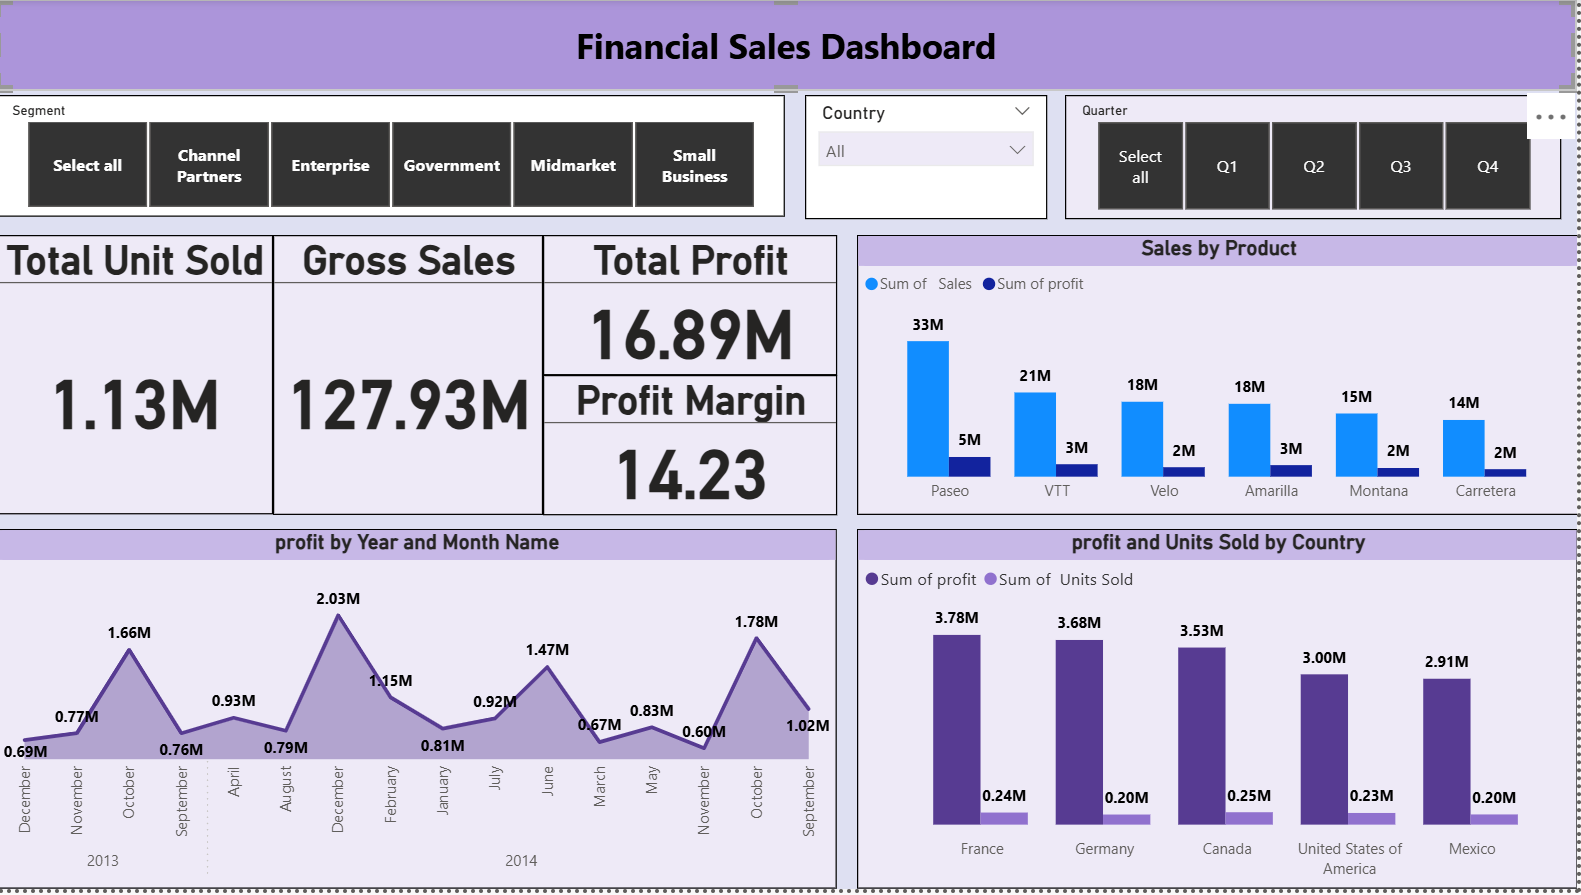

What the dashboard file says about the page in this screenshot:
{"tool":"powerbi","page":{"name":"Page 1","canvas":[1280,720],"ordinal":0},"visuals":[{"type":"card","title":"Total Unit Sold","fields":{"Values":["financial_data.Total_UNIT_Sold"]},"box":[0,190.9,224.9,226],"z":0},{"type":"shape","box":[0,0,1279.8,74.4],"z":1},{"type":"card","title":"Gross Sales","fields":{"Values":["financial_data.Total_Gross_Sales"]},"box":[224.9,190.9,218.4,226.5],"z":2},{"type":"card","title":"Total Profit","fields":{"Values":["Sum(financial_data.profit)"]},"box":[443.3,190.9,237.8,113.3],"z":3},{"type":"areaChart","title":" profit by Year and  Month Name ","fields":{"Y":["Sum(financial_data.profit)"],"Category":["financial_data.Year","financial_data. Month Name "]},"box":[0,428.8,681.2,291.2],"z":4},{"type":"slicer","fields":{"Values":["financial_data.Country"]},"box":[655.3,77.7,195.8,100.3],"z":6},{"type":"slicer","fields":{"Values":["financial_data.Segment"]},"box":[0,77.7,639.1,98.7],"z":7},{"type":"slicer","fields":{"Values":["financial_data.Quarter"]},"box":[865.6,77.7,401.3,100.3],"z":8},{"type":"clusteredColumnChart","title":" Sales  by  Product ","fields":{"Category":["financial_data. Product "],"Y":["Sum(financial_data.  Sales )","Sum(financial_data.profit)"]},"box":[697.3,190.9,584.1,226.5],"z":9},{"type":"clusteredColumnChart","title":"profit and  Units Sold  by Country","fields":{"Category":["financial_data.Country"],"Y":["Sum(financial_data.profit)","Sum(financial_data. Units Sold )"]},"box":[697,429,583,291],"z":10},{"type":"card","title":"Profit Margin","fields":{"Values":["financial_data.Profit Margin"]},"box":[443.3,304.2,237.8,113.3],"z":11}]}

Visuals, with their boxes in screenshot pixels (x1, y1, x2, y2), scaled from the page's 1280x720 canvas onto the 1581x895 screenshot:
"Total Unit Sold" card: bbox(0, 237, 278, 518)
shape: bbox(0, 0, 1580, 92)
"Gross Sales" card: bbox(278, 237, 548, 519)
"Total Profit" card: bbox(548, 237, 841, 378)
" profit by Year and  Month Name " areaChart: bbox(0, 533, 841, 894)
slicer - financial_data.Country: bbox(809, 97, 1051, 221)
slicer - financial_data.Segment: bbox(0, 97, 789, 219)
slicer - financial_data.Quarter: bbox(1069, 97, 1565, 221)
" Sales  by  Product " clusteredColumnChart: bbox(861, 237, 1580, 519)
"profit and  Units Sold  by Country" clusteredColumnChart: bbox(861, 533, 1580, 894)
"Profit Margin" card: bbox(548, 378, 841, 519)
